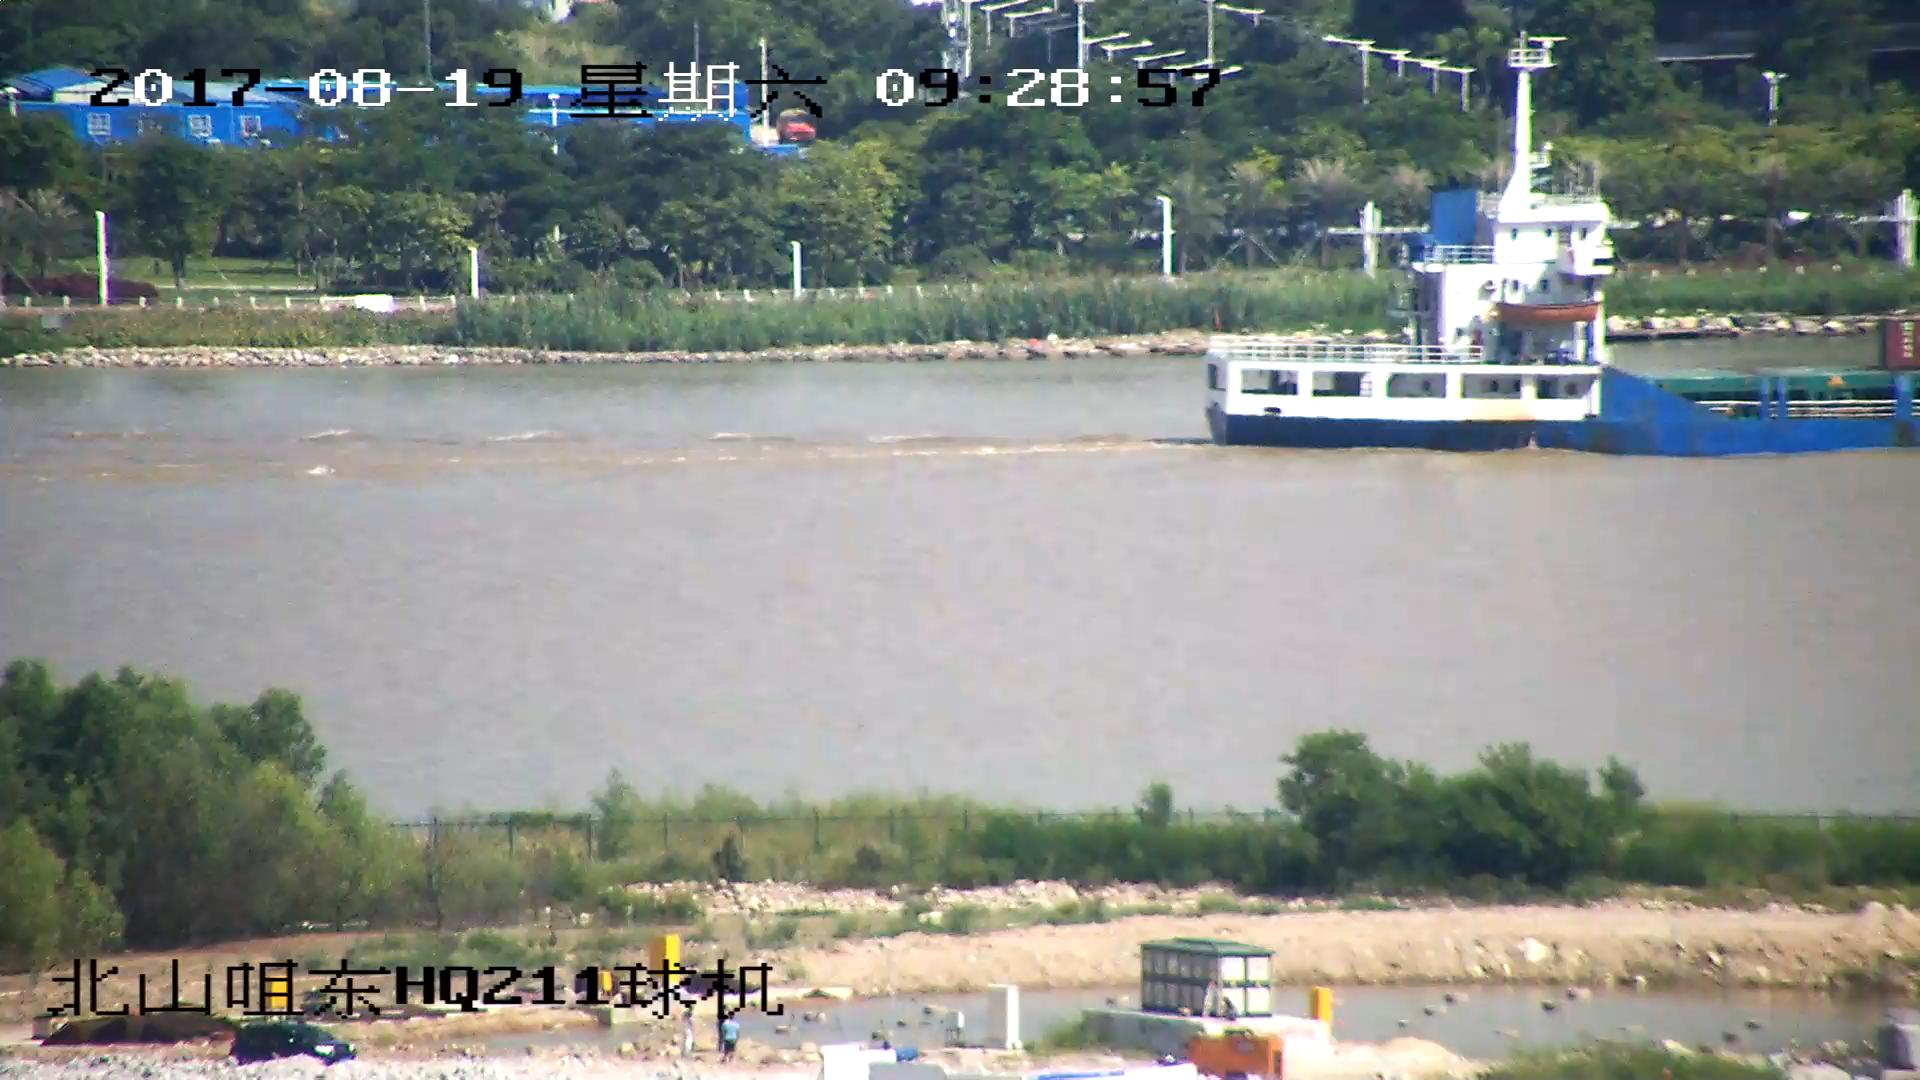general cargo ship: (1207, 38, 1920, 459)
